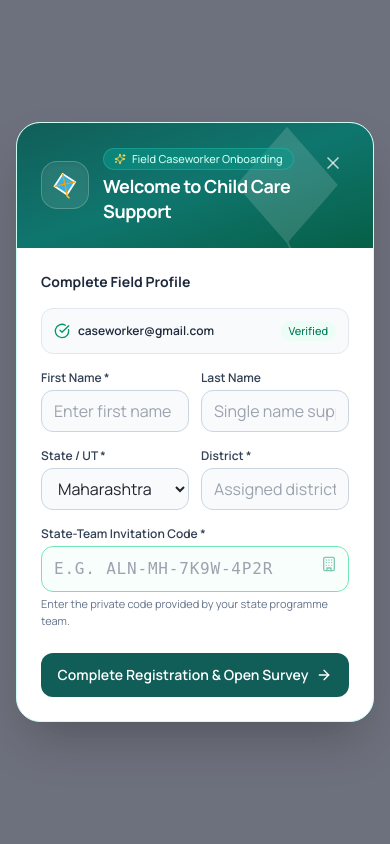
Test: WelcomeKiteOnboardingModal Component › 5. validates required fields on profile submit
The width and height of the screenshot is (390, 844).
Click the button "Complete Registration & Open Survey" at (195, 675), box [41, 653, 349, 697]
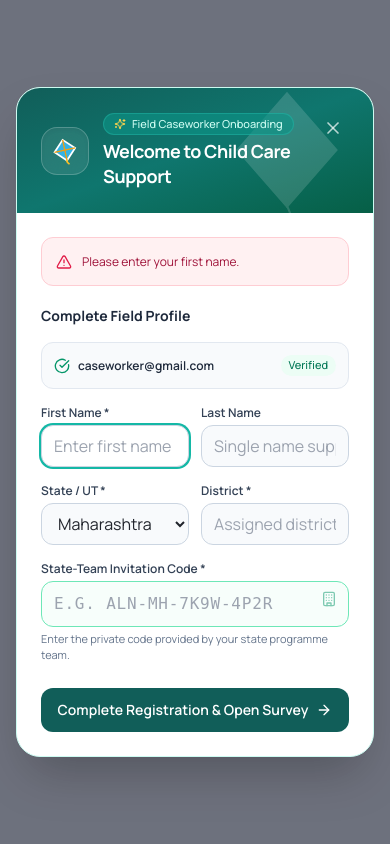
Check: the message "Please enter your first name." is shown, box [41, 237, 349, 286]
Check: the text "Please enter your first name." is shown, box [82, 253, 239, 270]
